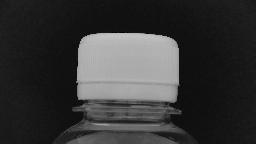Good Cap: (68, 29, 186, 117)
